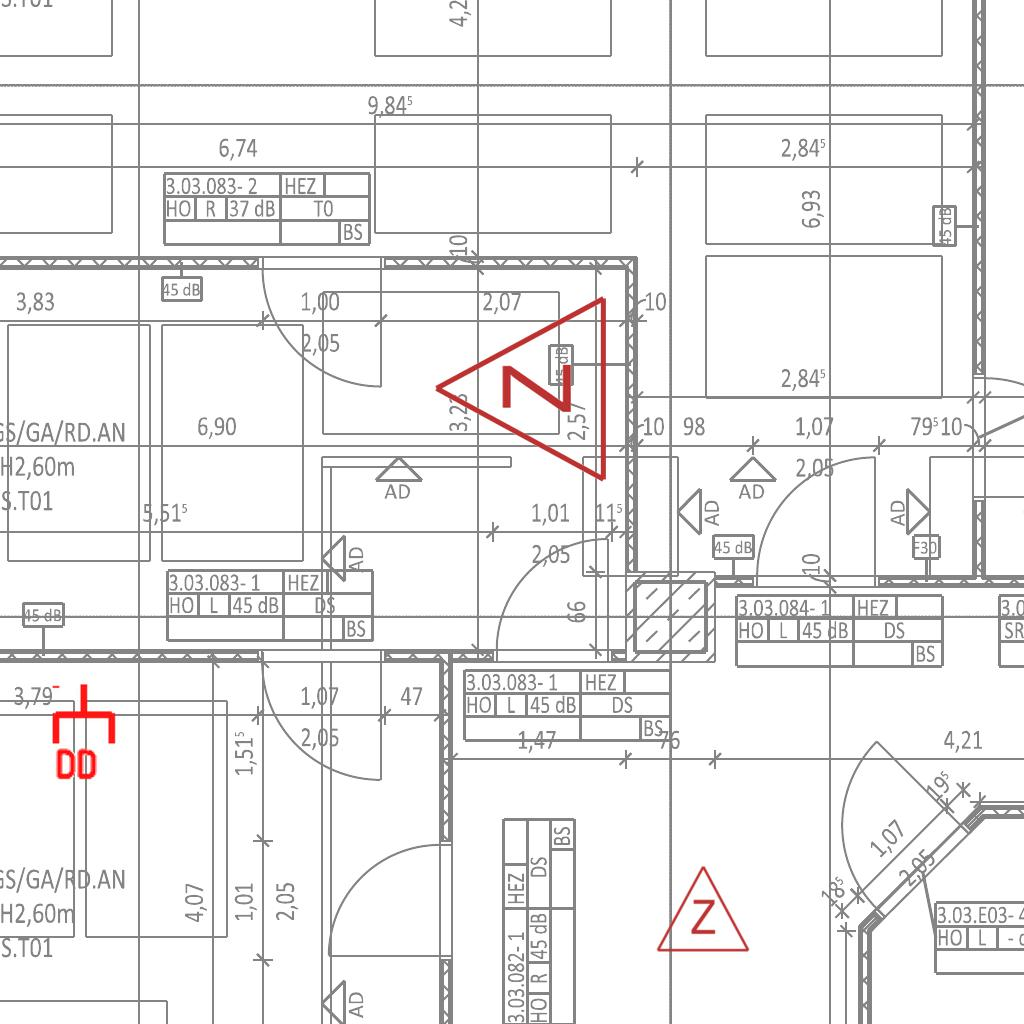Datenanschluss_zweifach: (51, 681, 120, 784)
Zimmersignalleuchte: (421, 293, 621, 489), (653, 859, 751, 959)
